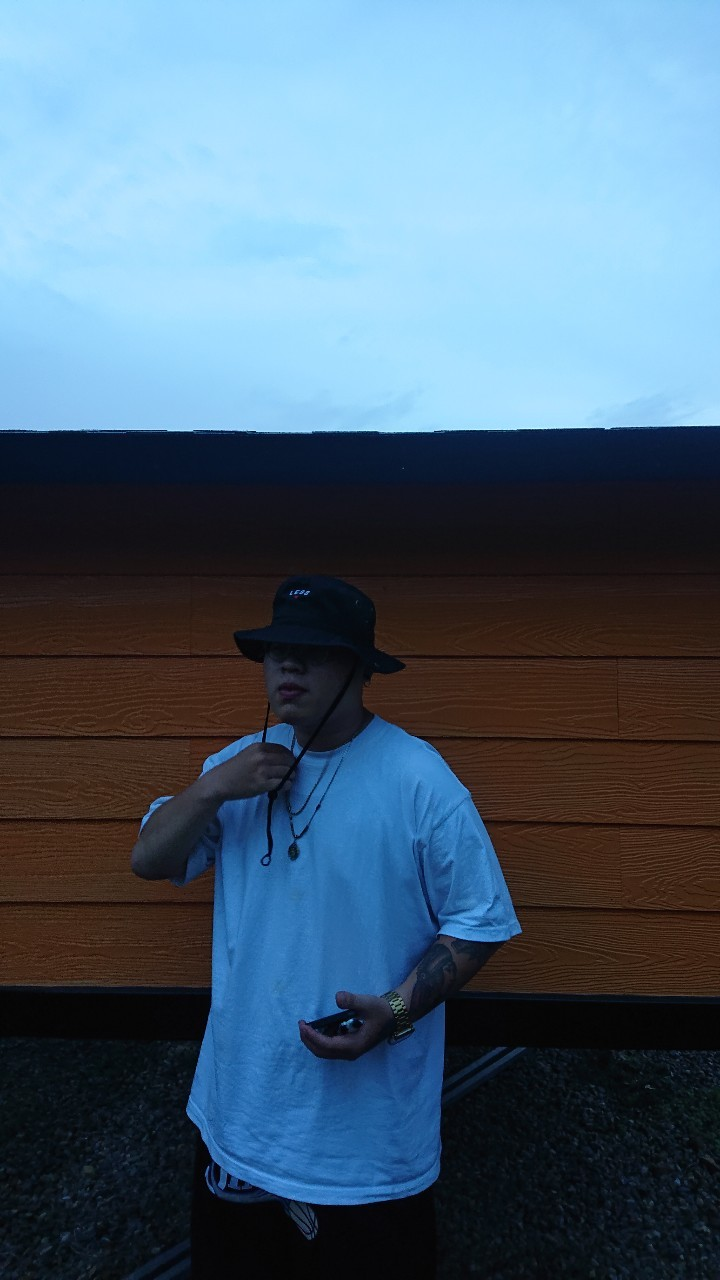people: (148, 580, 520, 1280)
